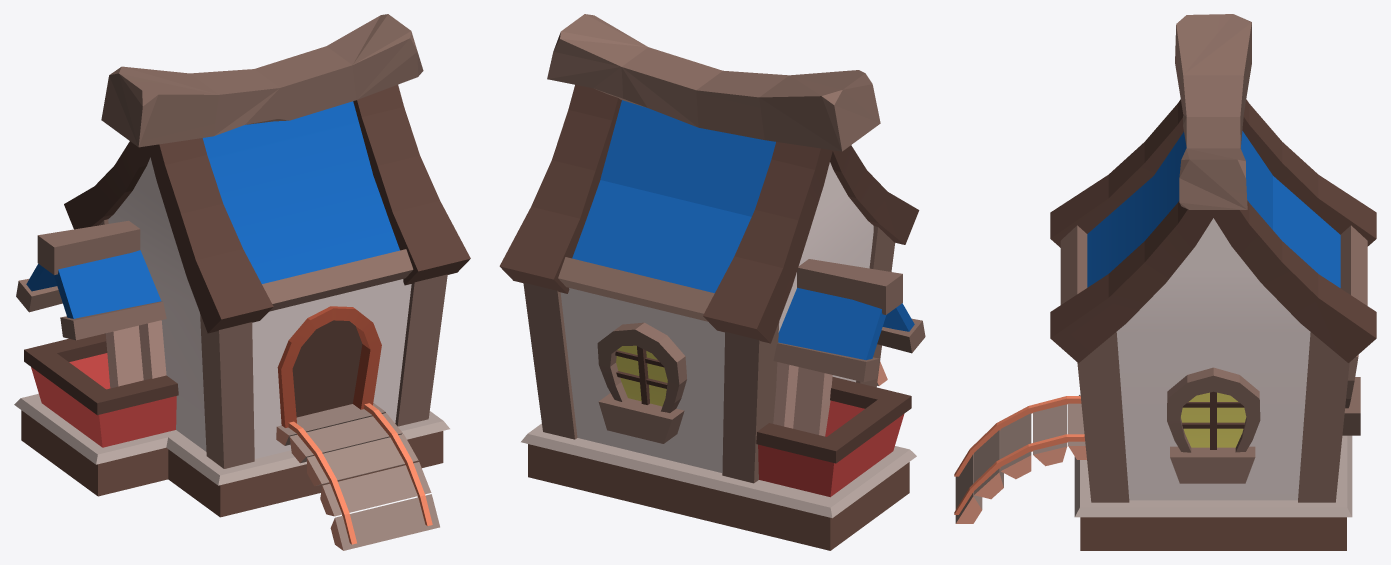
File: building_014.fbx
3 renders of one model, left to right at view 1: azimuth 30°, elevation 25°; view 2: azimuth 150°, elevation 25°; view 3: azimuth 270°, elevation 25°, orthographic. The views are drawn at different scales.
Visible parts, largest first — view 1: building.014; view 2: building.014; view 3: building.014.
Part boxes in pixels (x1=…): building.014: x1=14, y1=14, x2=470, y2=550; building.014: x1=499, y1=14, x2=925, y2=550; building.014: x1=954, y1=14, x2=1376, y2=550.
Size of the model in its own units: 830 by 933 by 859.
1 material, 1 textured.
